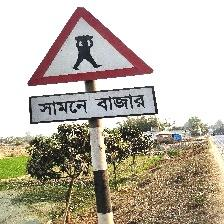Market-in-front: (28, 5, 157, 126)
